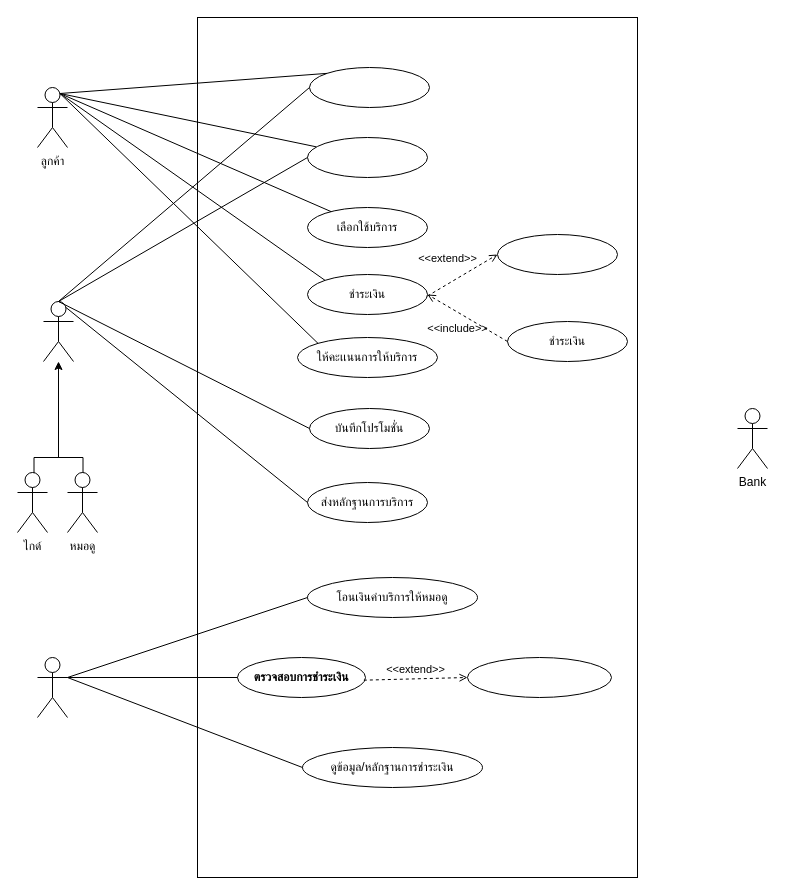
Image size: 785x895. Some labels were removed from this diagram. The shapes that lost their labels are listed below. From the top down, each one's centre as x and y in pixels, then its label:
At (x=369, y=87): "สมัครสมาชิก".
At (x=367, y=157): "เข้าสู่ระบบ".
At (x=557, y=254): "เลือกช่องทางชำระเงิน".
At (x=58, y=331): "ผู้ให้บริการ".
At (x=52, y=687): "เเอดมิน".
At (x=539, y=677): "เปลี่ยนสถานะการชำระเงิน".
